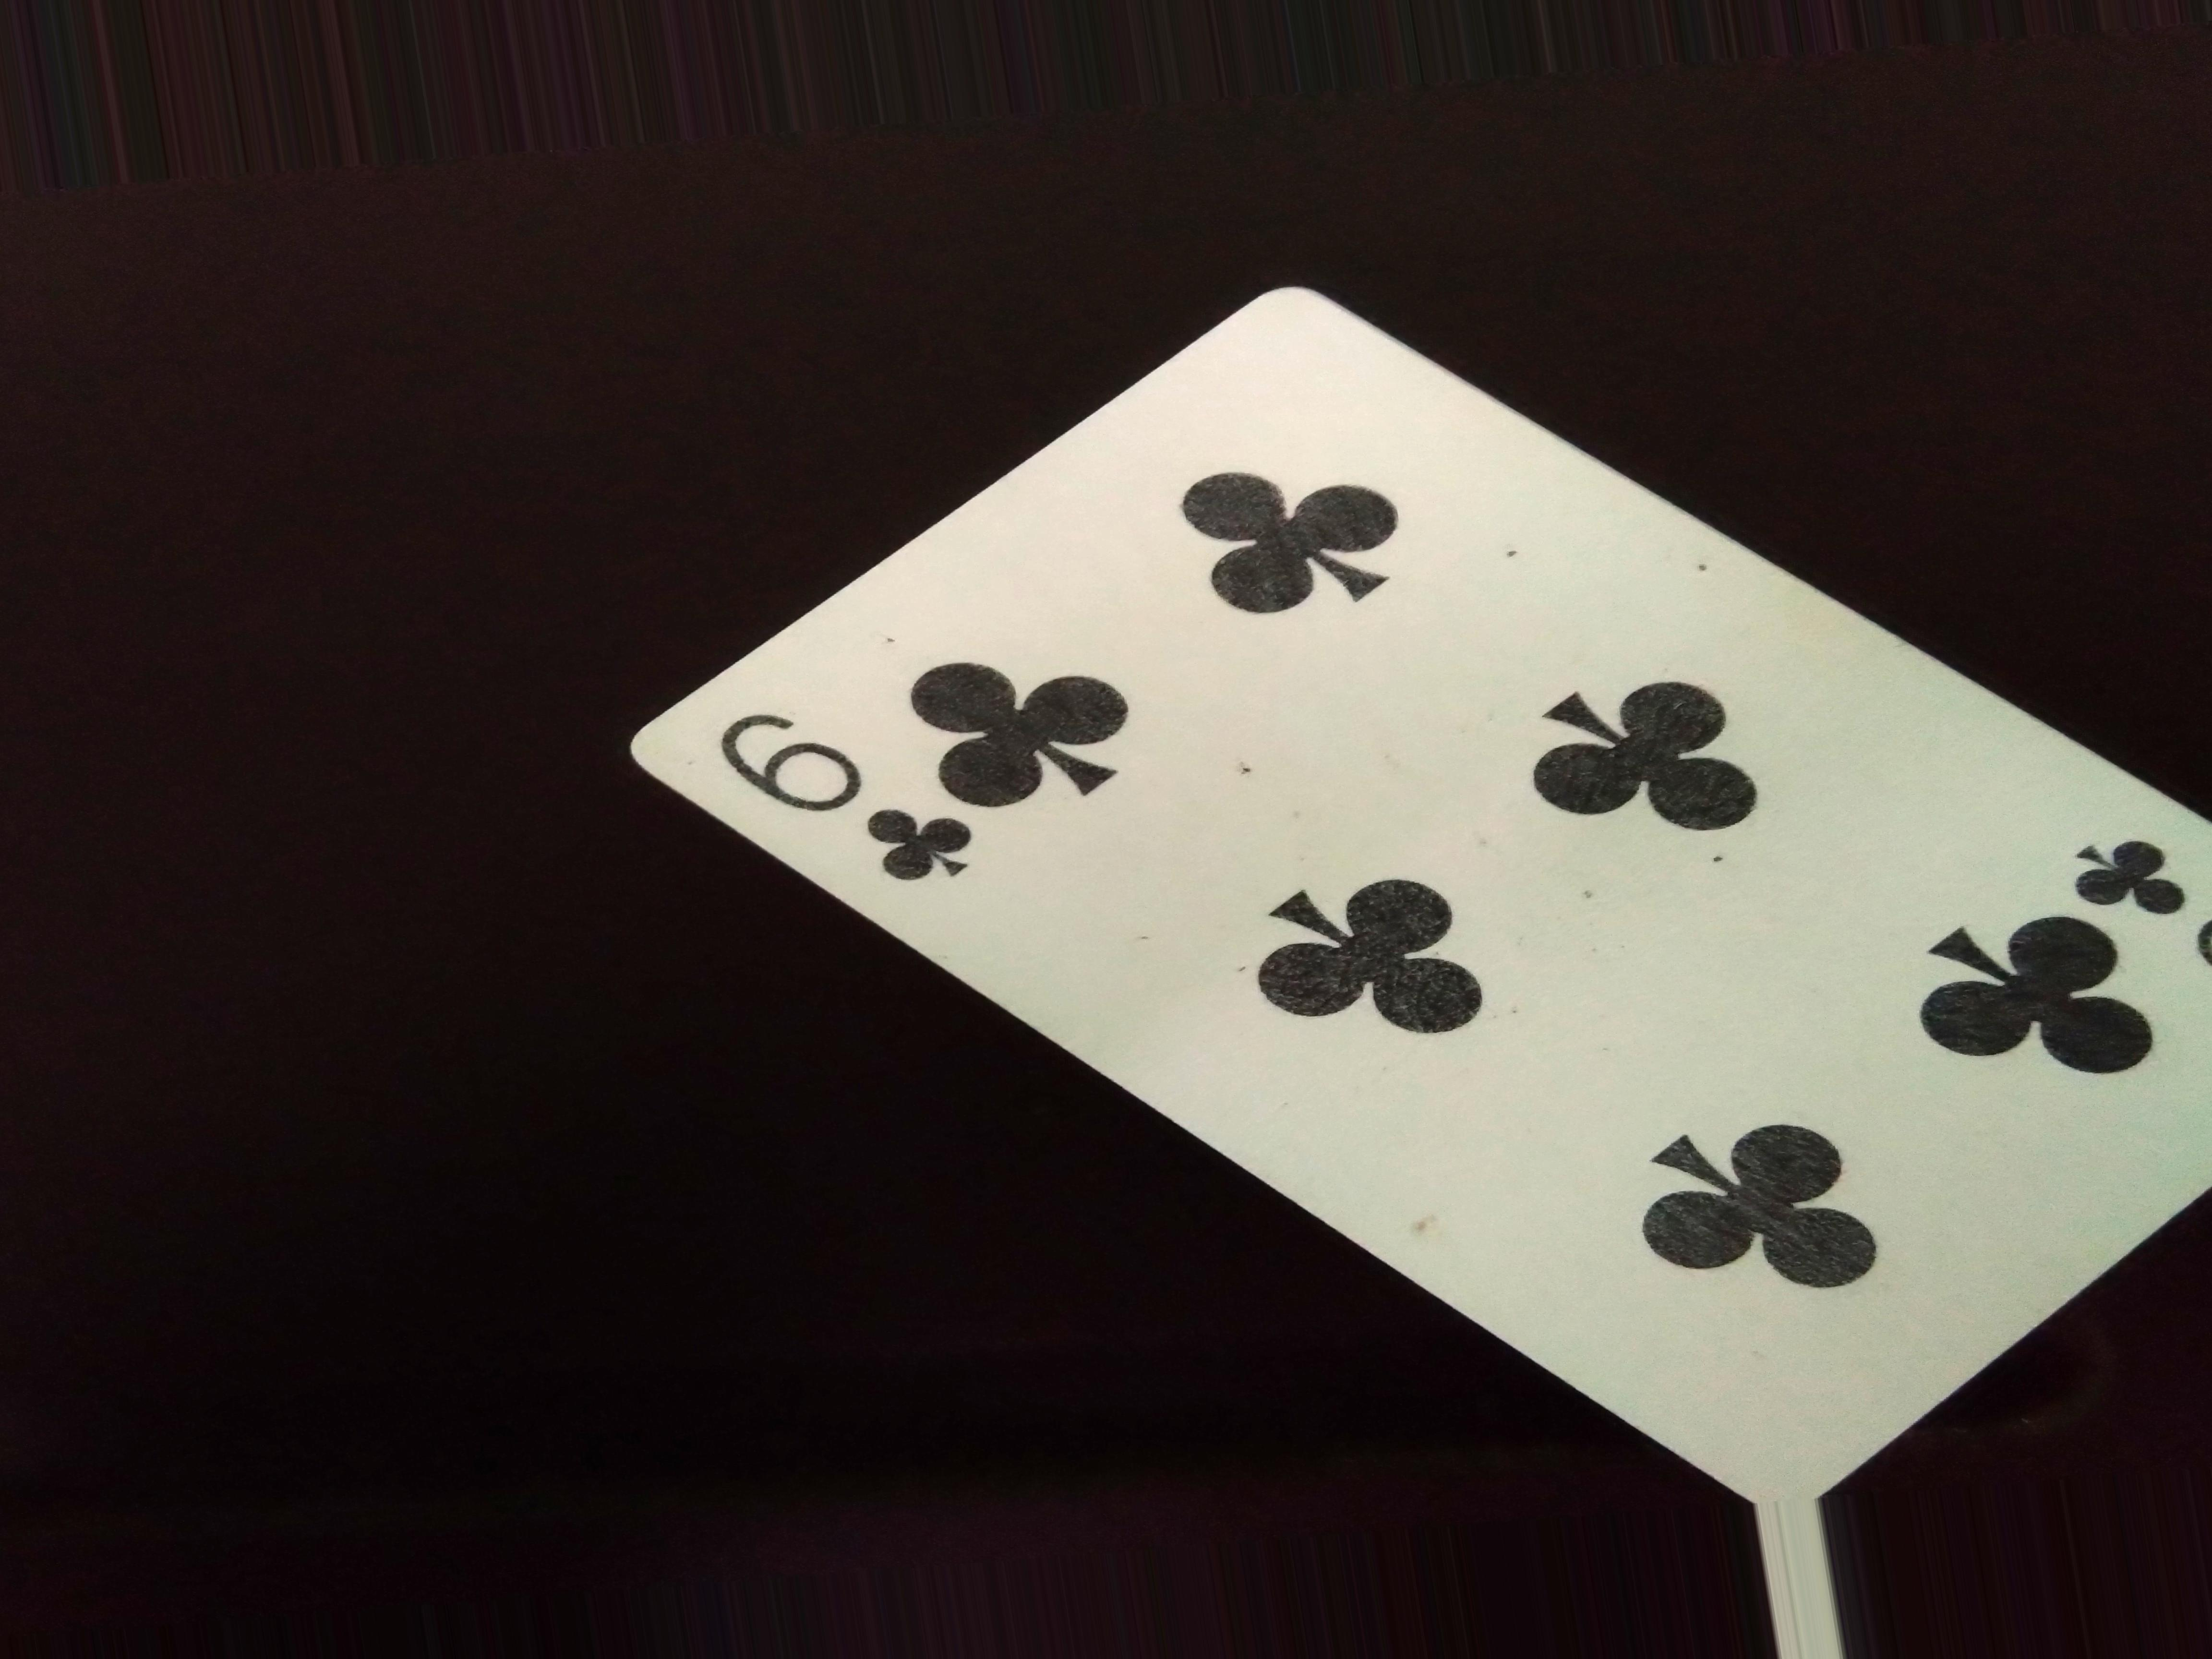6C: (718, 695, 986, 945)
